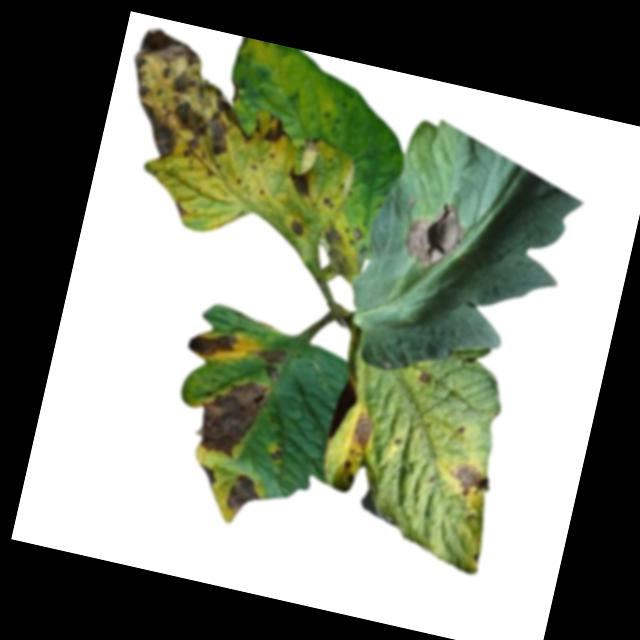Early_blight: (113, 21, 280, 180), (191, 369, 271, 464), (396, 191, 472, 278), (313, 217, 364, 278), (182, 321, 240, 363), (224, 467, 266, 520), (442, 458, 493, 501), (252, 344, 287, 384), (346, 408, 377, 452), (281, 163, 315, 203), (261, 113, 293, 150), (192, 461, 220, 488), (337, 458, 358, 484), (300, 132, 322, 156), (287, 214, 308, 238), (265, 439, 286, 462), (319, 191, 337, 209), (415, 367, 432, 385)
